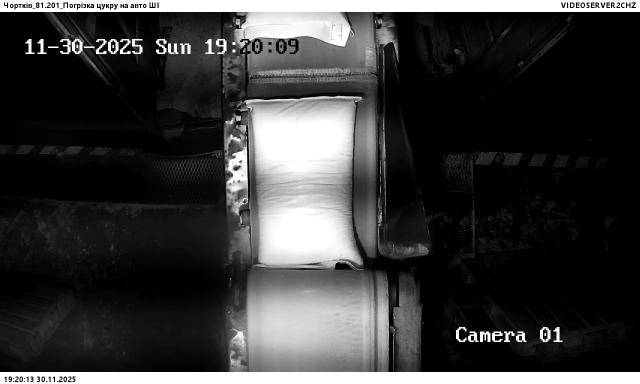bag: (246, 96, 369, 271), (244, 12, 354, 46)
